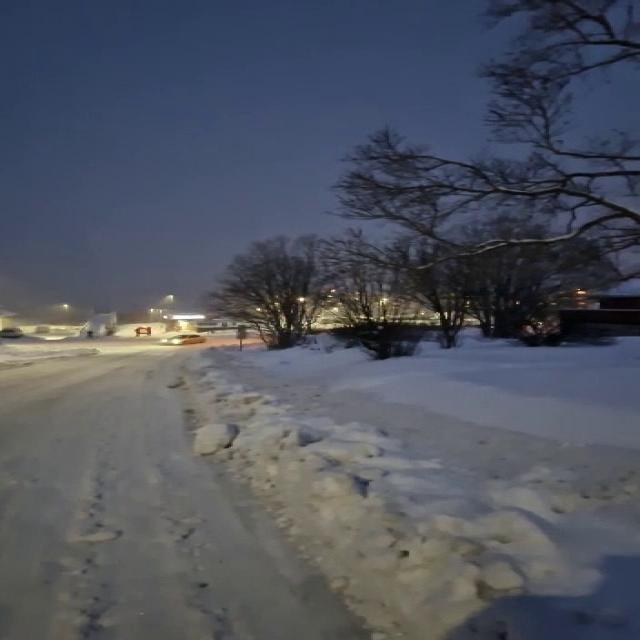path: (2, 340, 367, 640)
